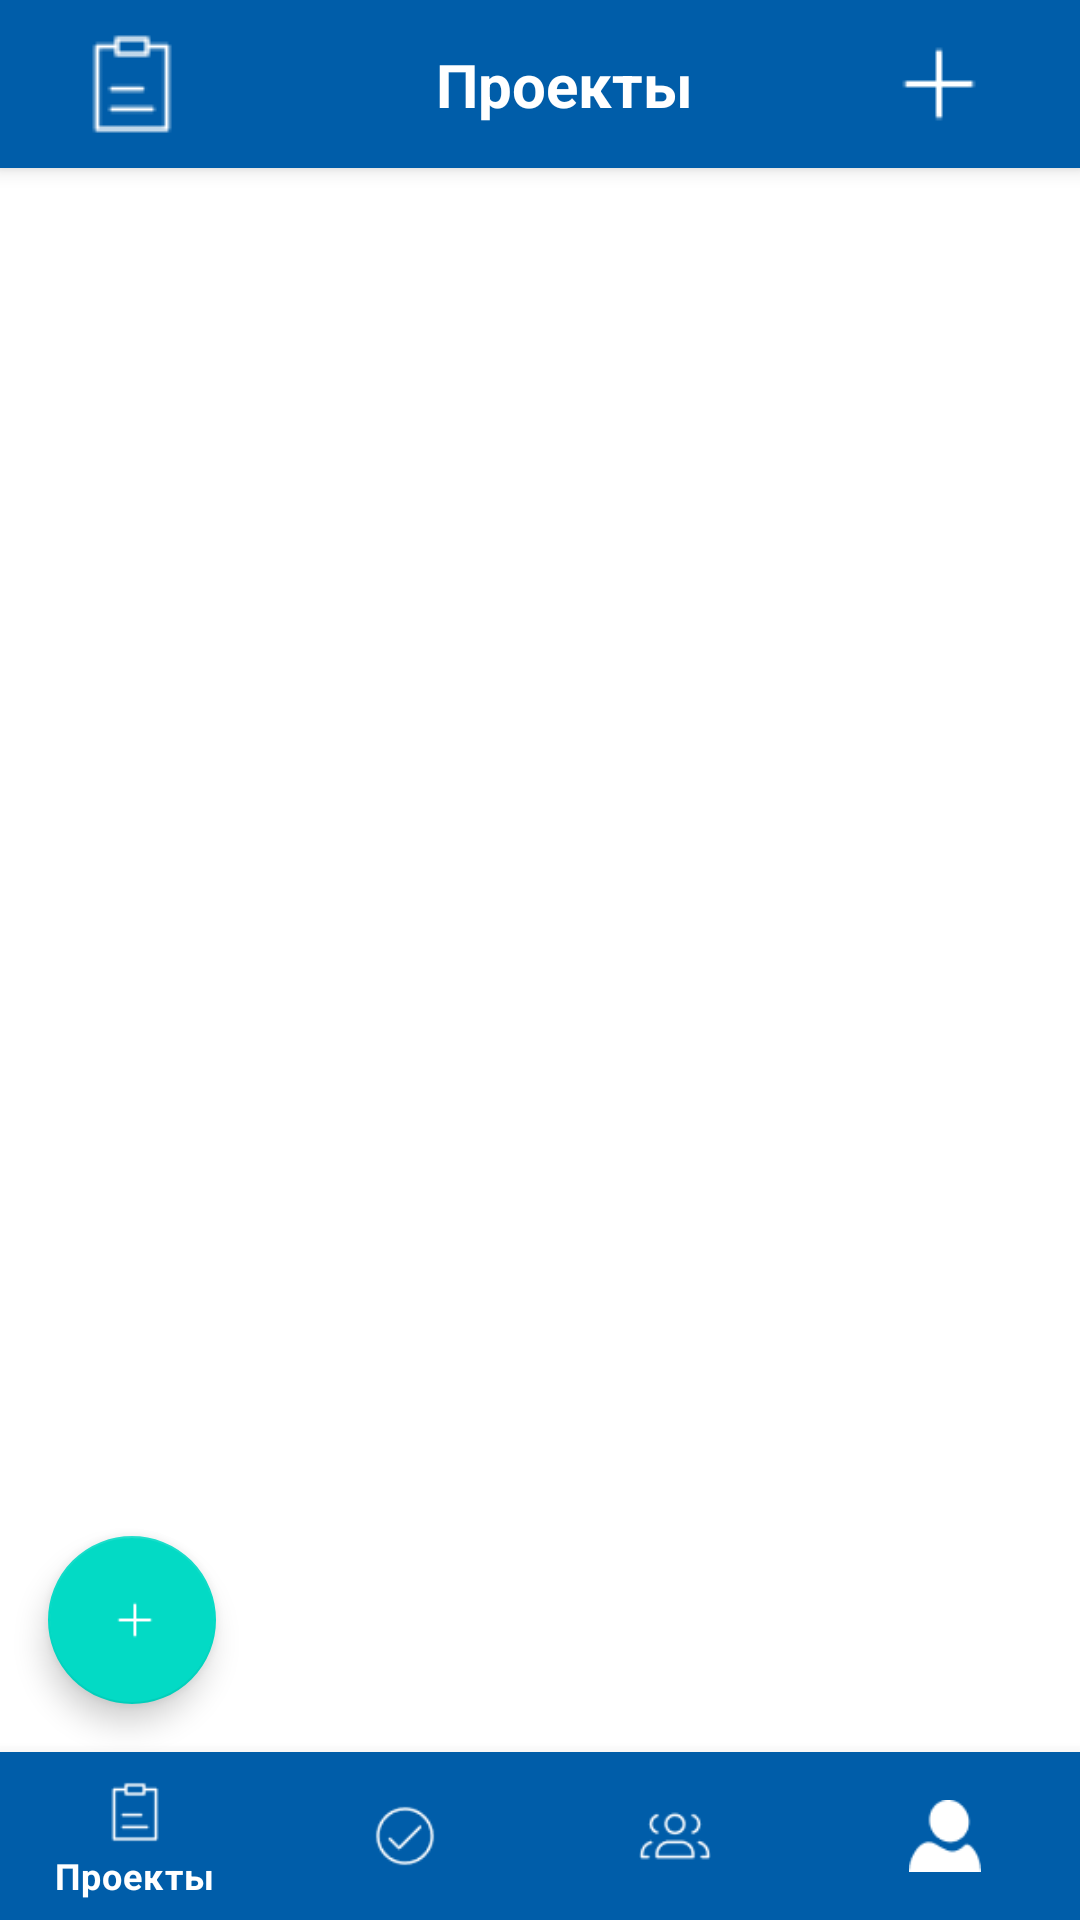

Screen size 1080 x 1920. Icon name, then its center in pixels as [x,y]:
Добавить: [939,84]
Добавить новый элемент: [132,1620]
